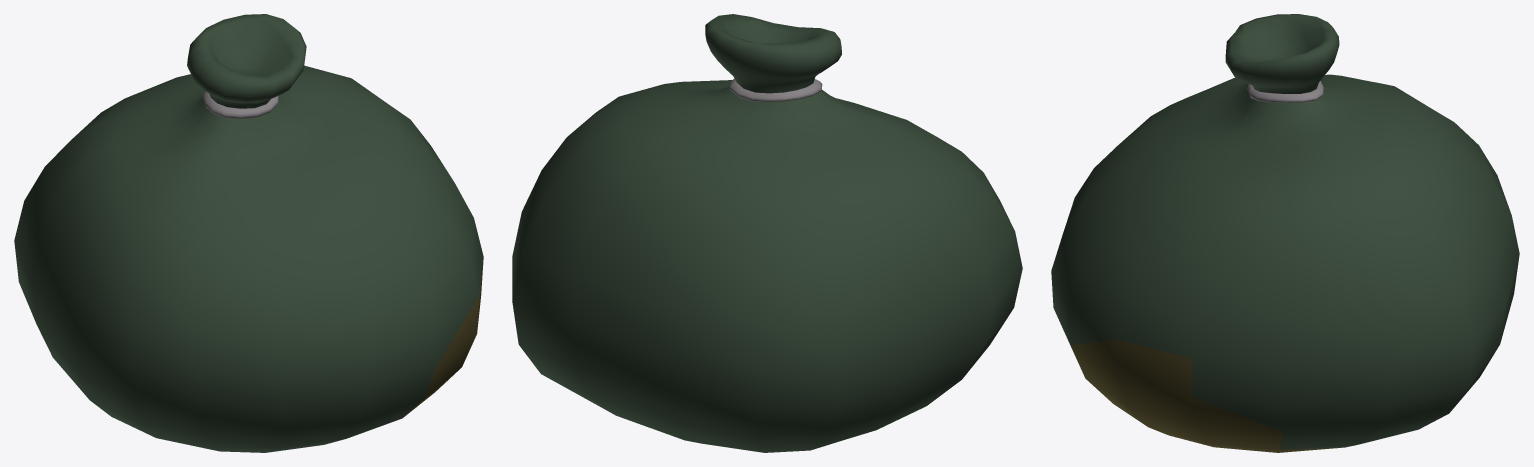
Rendered from SM_P_Trashbagt.fbx.
3 views of the same model, side by side, from view 1: azimuth 30°, elevation 25°; view 2: azimuth 150°, elevation 25°; view 3: azimuth 270°, elevation 25° (orthographic). The views are drawn at different scales.
Visible parts, largest first — view 1: tRASHBAG; view 2: tRASHBAG; view 3: tRASHBAG.
Part boxes in pixels (bbox=[...]): tRASHBAG: bbox=[14, 14, 483, 452]; tRASHBAG: bbox=[512, 14, 1022, 452]; tRASHBAG: bbox=[1051, 14, 1519, 452].
Size of the model in its own units: 74.8 by 67.83 by 75.17.
